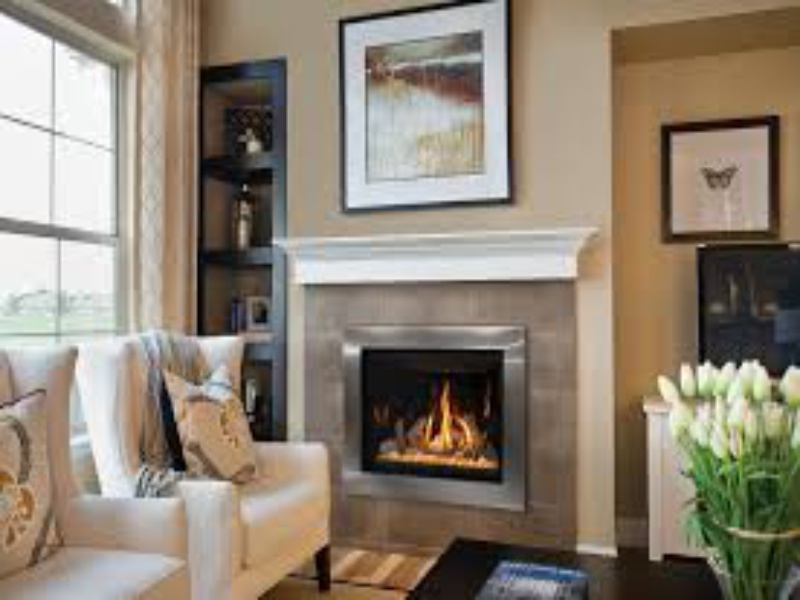fire: (409, 374, 481, 451)
